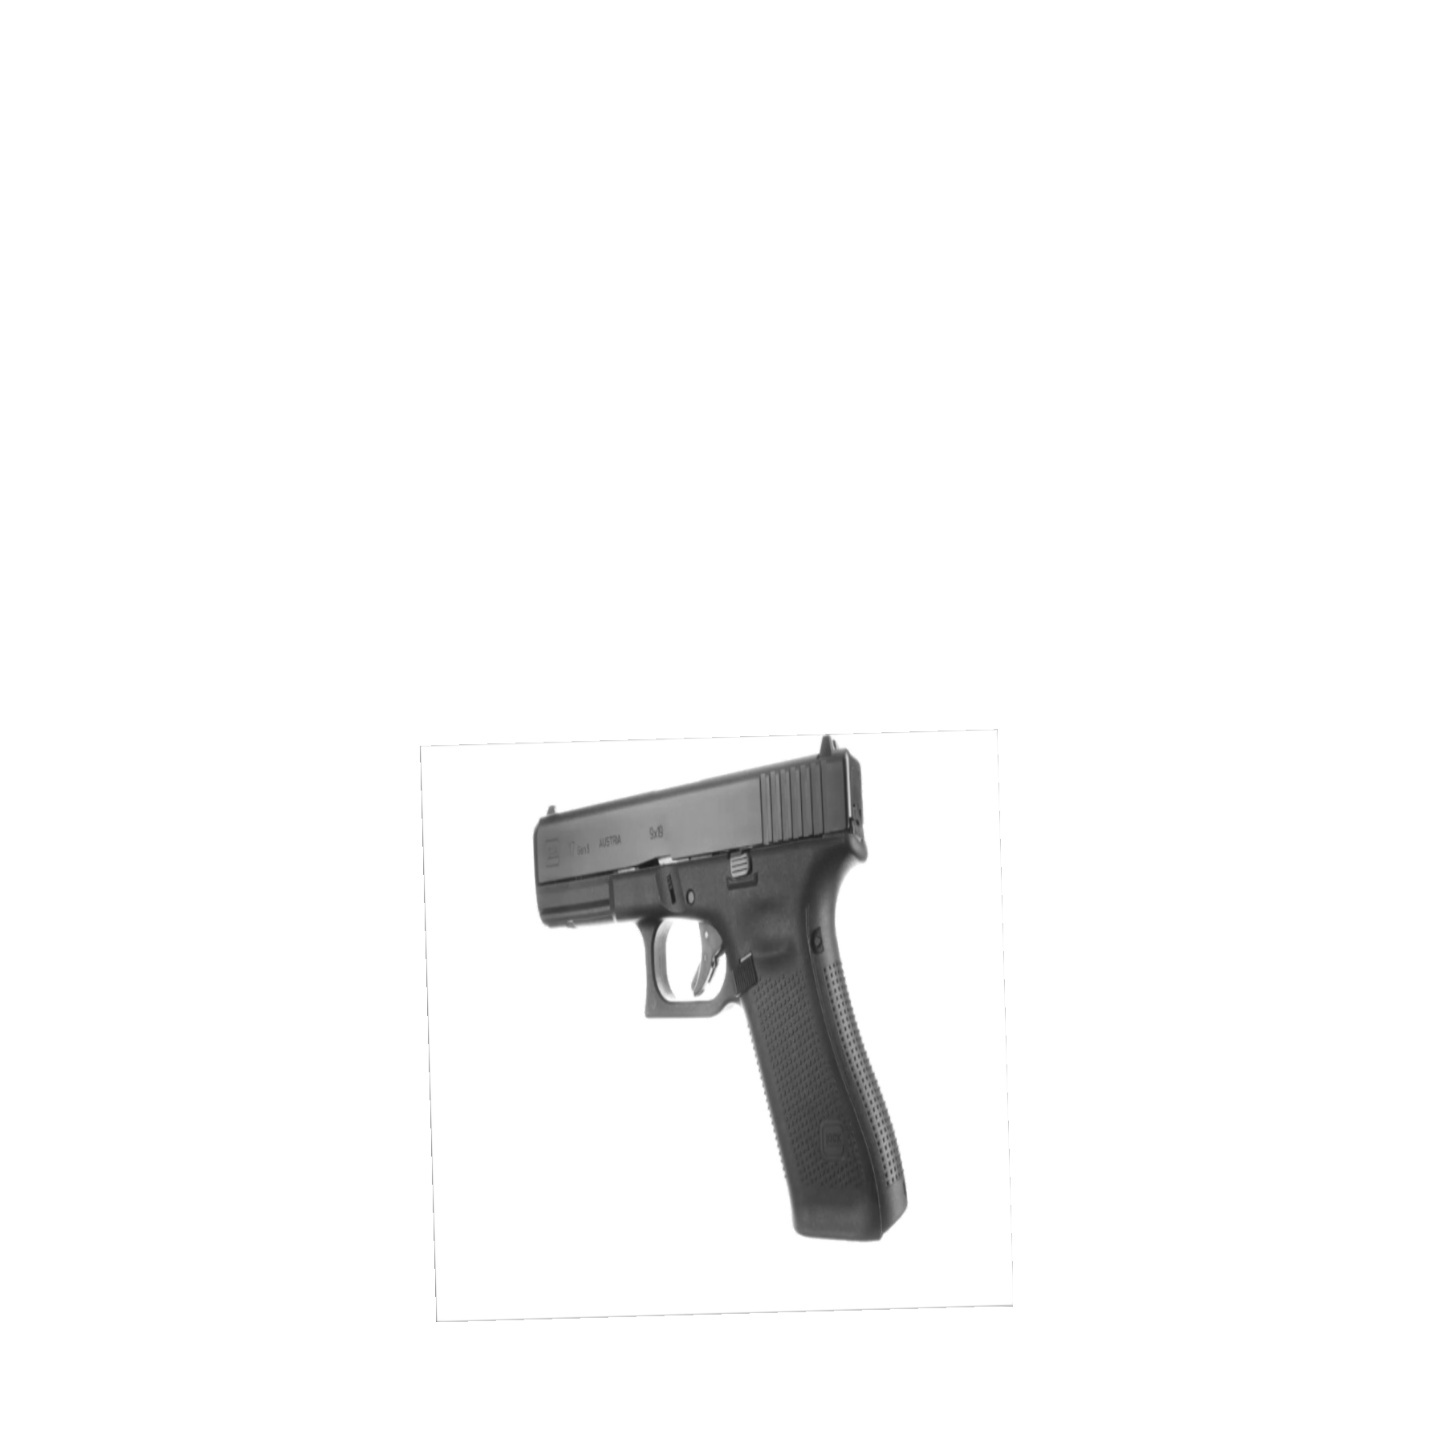gun: (521, 736, 923, 1254)
